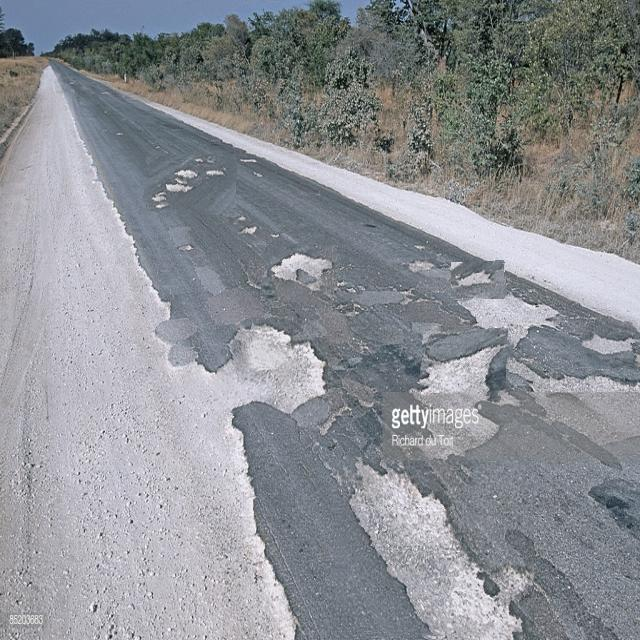Pothole: (333, 460, 534, 640), (215, 320, 328, 418), (420, 326, 511, 399), (144, 154, 236, 215), (263, 241, 340, 306), (580, 322, 640, 369), (452, 261, 506, 299), (230, 217, 270, 241), (408, 251, 436, 278)
